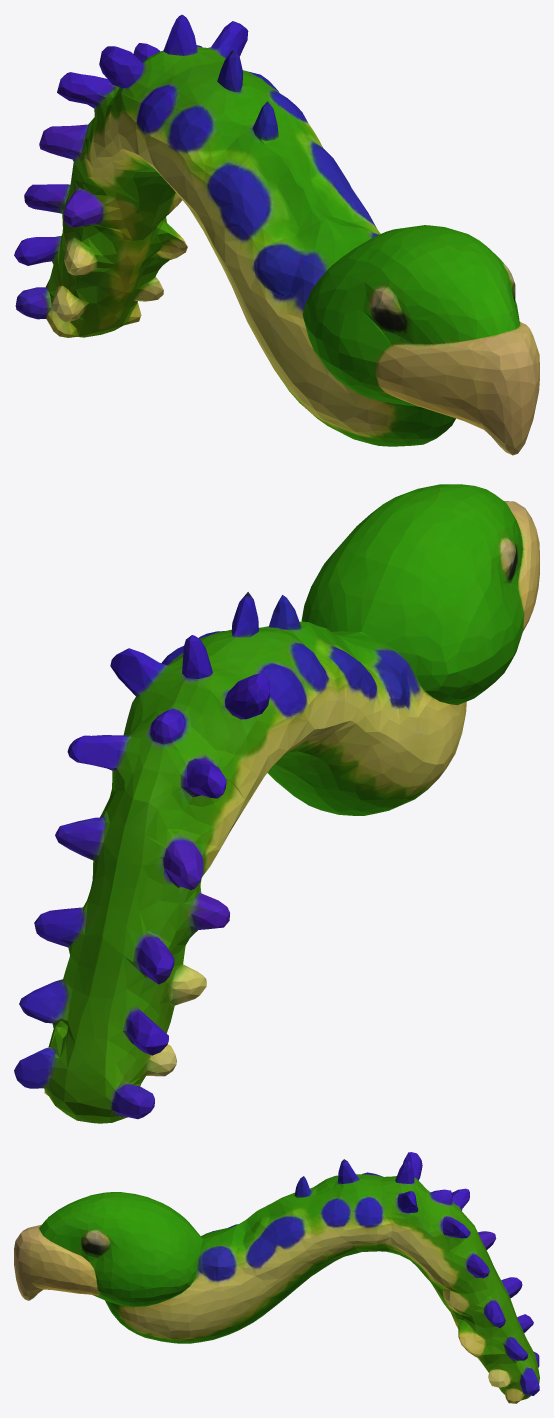
The model's file is 051-viperoot.glb.
The picture shows the model from 3 angles, top to bottom: view 1: azimuth 30°, elevation 25°; view 2: azimuth 150°, elevation 25°; view 3: azimuth 270°, elevation 25°; orthographic projection. The views are drawn at different scales.
Parts seen in each view (by area): view 1: geometry_0; view 2: geometry_0; view 3: geometry_0.
Boxes of the visible parts, x1,y1,x2,y2 form: geometry_0: (14, 14, 539, 455); geometry_0: (14, 484, 539, 1123); geometry_0: (14, 1152, 539, 1403).
Size of the model in its own units: 0.239 by 0.4938 by 0.9978.
Materials: 1 (1 with a texture image).
